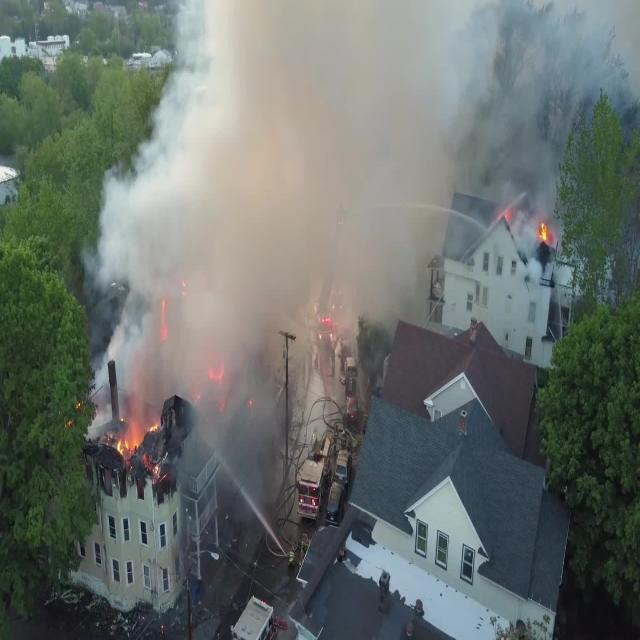Fire: (64, 265, 268, 490), (492, 192, 564, 266)
Smoke: (72, 1, 460, 470), (478, 132, 578, 288)
